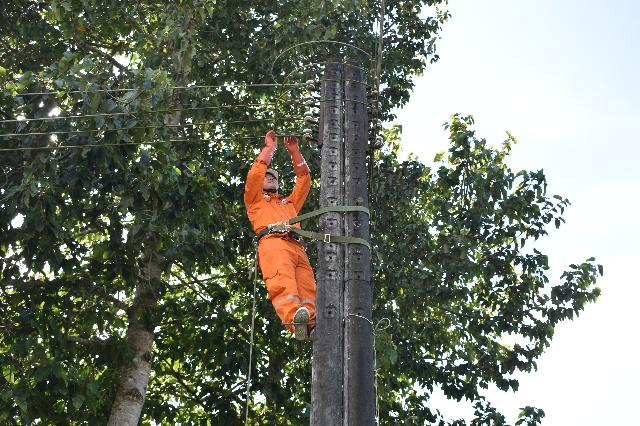gloves: (241, 122, 279, 159), (283, 133, 314, 174)
harness: (248, 218, 308, 246)
helmet: (259, 160, 281, 186)
shoes: (290, 305, 309, 340), (306, 317, 324, 342)
